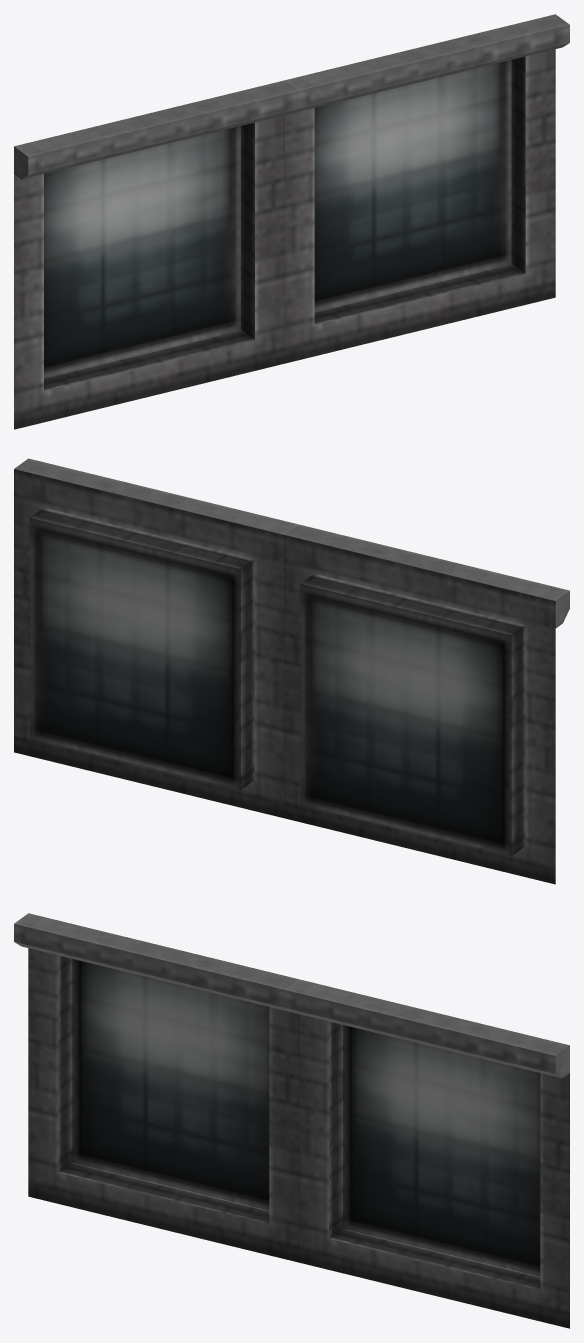
File: B6_Store2x.FBX
3 renders of one model, top to bottom at view 1: azimuth 30°, elevation 25°; view 2: azimuth 150°, elevation 25°; view 3: azimuth 330°, elevation 25°, orthographic.
Visible parts, largest first — view 1: B6_Store2x; view 2: B6_Store2x; view 3: B6_Store2x.
Boxes of the visible parts, x1,y1,x2,y2 form: B6_Store2x: [14, 14, 569, 429]; B6_Store2x: [14, 458, 569, 884]; B6_Store2x: [14, 913, 569, 1328].
Bounding box in the file's own units: 8 × 4 × 0.7269.
